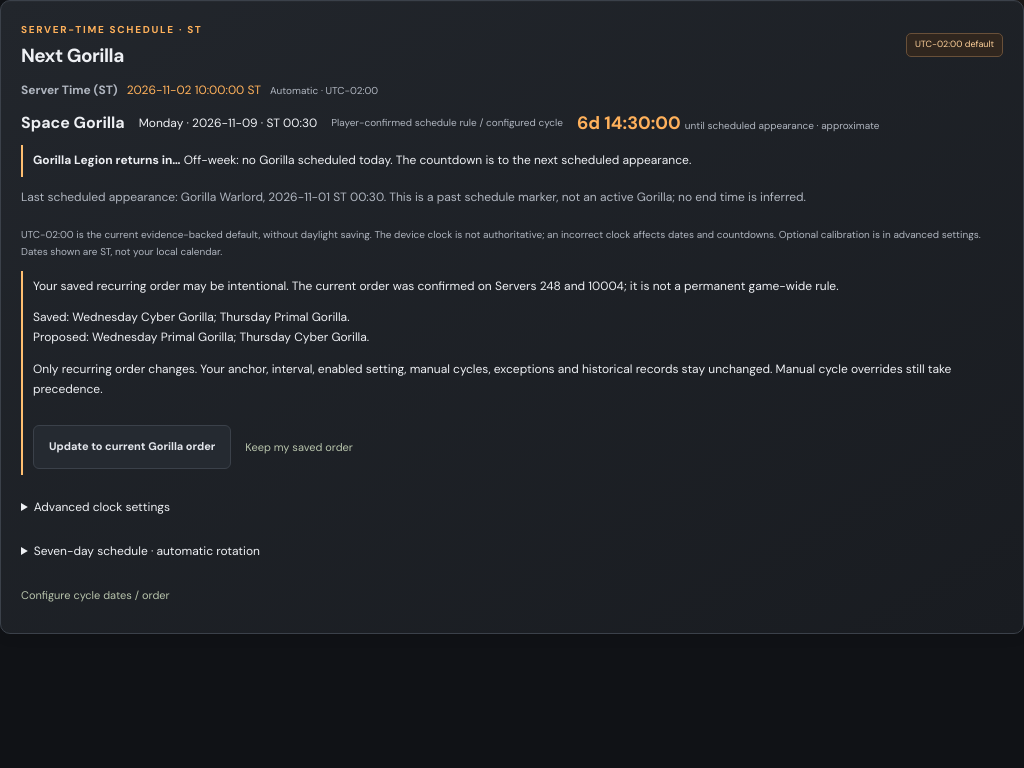
Test case: requires confirmation for updates and remembers keep after remount
Check: the text "Saved: Wednesday Cyber Gorilla; Thursday Primal Gorilla" is shown, box [33,309,369,345]
Click the button "Keep my saved order" at (299, 447), box [245,425,353,469]
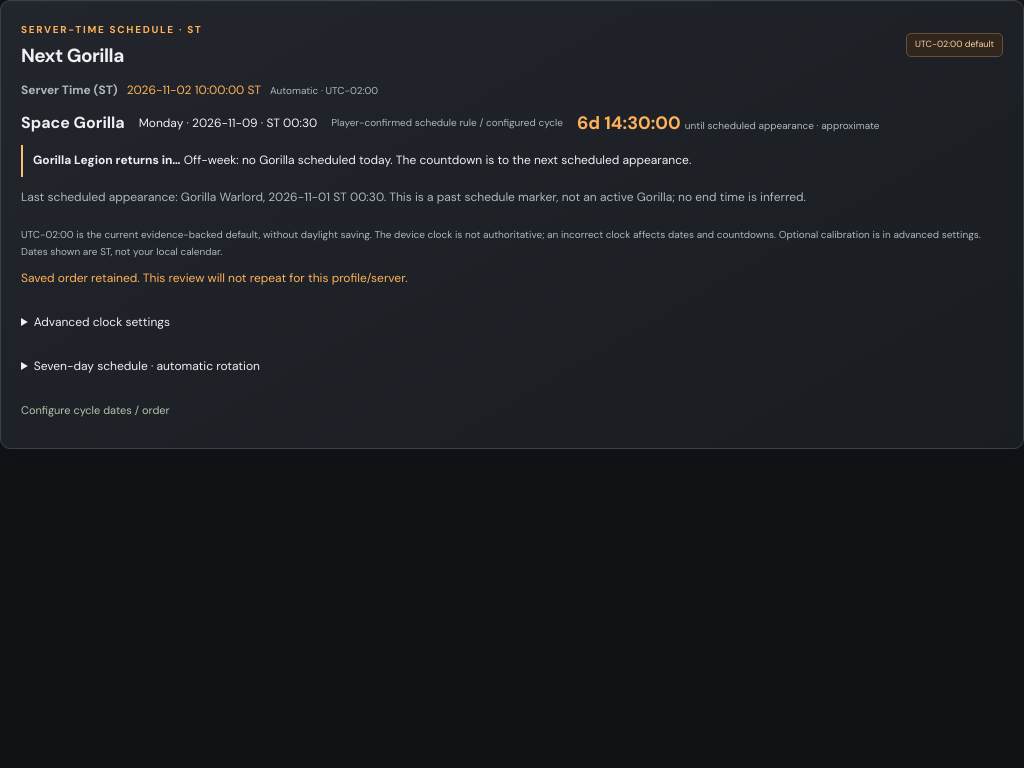
Check: the button "Update to current Gorilla order" is gone
